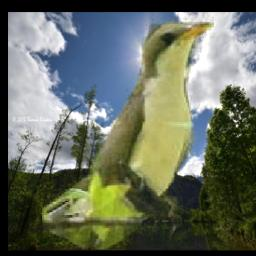Cuckoo: (43, 15, 215, 249)
